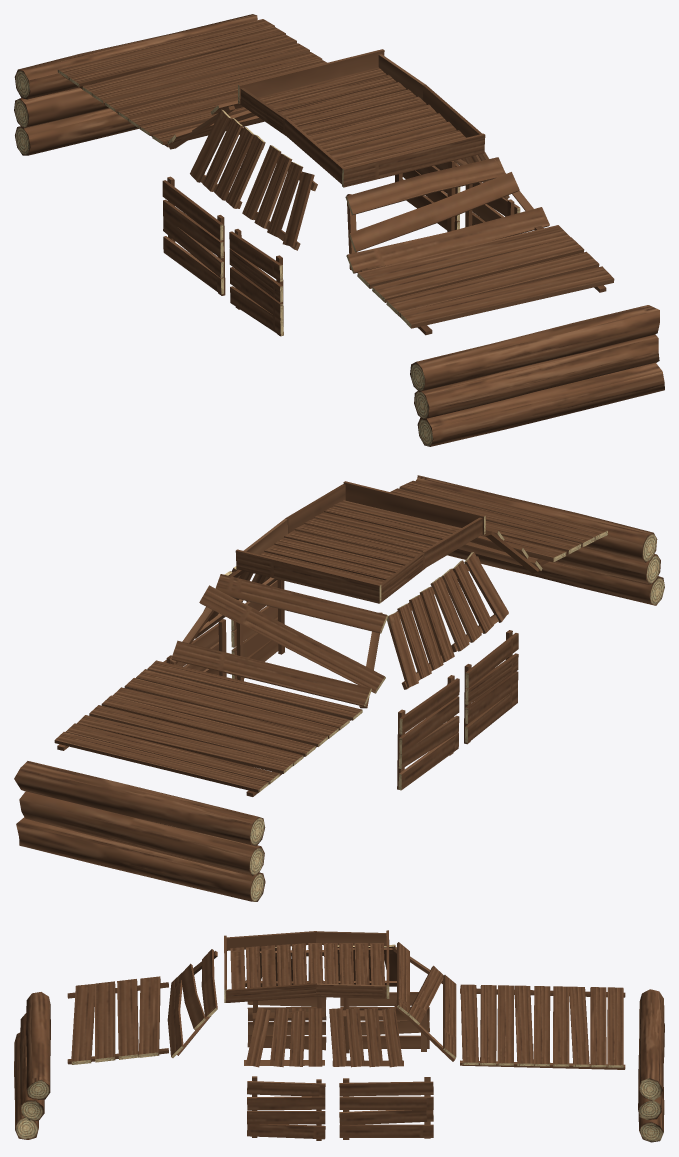
Rendered from Vehicles_CarNormal_Wood.fbx.
The picture shows the model from 3 angles, top to bottom: view 1: azimuth 30°, elevation 25°; view 2: azimuth 150°, elevation 25°; view 3: azimuth 270°, elevation 25°; orthographic projection. The views are drawn at different scales.
Visible parts, largest first — view 1: normal_wood_trunk_armor, normal_wood_roofrack, normal_wood_hood_armor, normal_wood_rear_windshield_armor, normal_wood_bullbar_armor, normal_wood_front_left_door_armor, normal_wood_rear_left_window_armor, normal_wood_front_left_window_armor, normal_wood_rear_left_door_armor, normal_wood_windshield_armor, normal_wood_front_right_door_armor, normal_wood_rear_right_door_armor; view 2: normal_wood_hood_armor, normal_wood_bullbar_armor, normal_wood_roofrack, normal_wood_trunk_armor, normal_wood_windshield_armor, normal_wood_front_left_door_armor, normal_wood_rear_left_window_armor, normal_wood_front_left_window_armor, normal_wood_rear_left_door_armor, normal_wood_rear_right_door_armor, normal_wood_rear_windshield_armor, normal_wood_front_right_door_armor; view 3: normal_wood_hood_armor, normal_wood_trunk_armor, normal_wood_roofrack, normal_wood_front_right_door_armor, normal_wood_rear_right_door_armor, normal_wood_bullbar_armor, normal_wood_rear_right_window_armor, normal_wood_front_right_window_armor, normal_wood_windshield_armor, normal_wood_rear_windshield_armor, normal_wood_front_left_door_armor, normal_wood_rear_left_door_armor (+2 smaller).
Part boxes in pixels (x1,y1,x2,y2): normal_wood_trunk_armor: (357,225,664,446); normal_wood_roofrack: (238,49,485,187); normal_wood_hood_armor: (57,19,326,147); normal_wood_rear_windshield_armor: (345,157,549,273); normal_wood_bullbar_armor: (14,14,257,155); normal_wood_front_left_door_armor: (162,176,225,295); normal_wood_rear_left_window_armor: (242,145,317,250); normal_wood_front_left_window_armor: (190,109,265,208); normal_wood_rear_left_door_armor: (229,229,283,336); normal_wood_windshield_armor: (167,100,264,149); normal_wood_front_right_door_armor: (395,161,460,231); normal_wood_rear_right_door_armor: (465,182,520,227); normal_wood_hood_armor: (54,660,362,796); normal_wood_bullbar_armor: (14,761,265,901); normal_wood_roofrack: (235,481,485,603); normal_wood_trunk_armor: (390,475,664,605); normal_wood_windshield_armor: (169,574,388,708); normal_wood_front_left_door_armor: (397,675,459,790); normal_wood_rear_left_window_armor: (430,552,508,652); normal_wood_front_left_window_armor: (387,586,454,689); normal_wood_rear_left_door_armor: (464,630,518,744); normal_wood_rear_right_door_armor: (231,579,284,681); normal_wood_rear_windshield_armor: (458,527,542,573); normal_wood_front_right_door_armor: (163,619,226,676); normal_wood_hood_armor: (460,984,625,1069); normal_wood_trunk_armor: (14,976,168,1139); normal_wood_roofrack: (224,930,389,1002); normal_wood_front_right_door_armor: (339,1077,433,1139); normal_wood_rear_right_door_armor: (247,1076,325,1140); normal_wood_bullbar_armor: (638,989,664,1142); normal_wood_rear_right_window_armor: (244,1007,324,1067); normal_wood_front_right_window_armor: (329,1008,403,1067); normal_wood_windshield_armor: (392,942,456,1061); normal_wood_rear_windshield_armor: (167,949,217,1057); normal_wood_front_left_door_armor: (340,992,429,1053); normal_wood_rear_left_door_armor: (247,996,326,1050).
Bounding box in the file's own units: 0.9173 × 0.6699 × 2.77.
